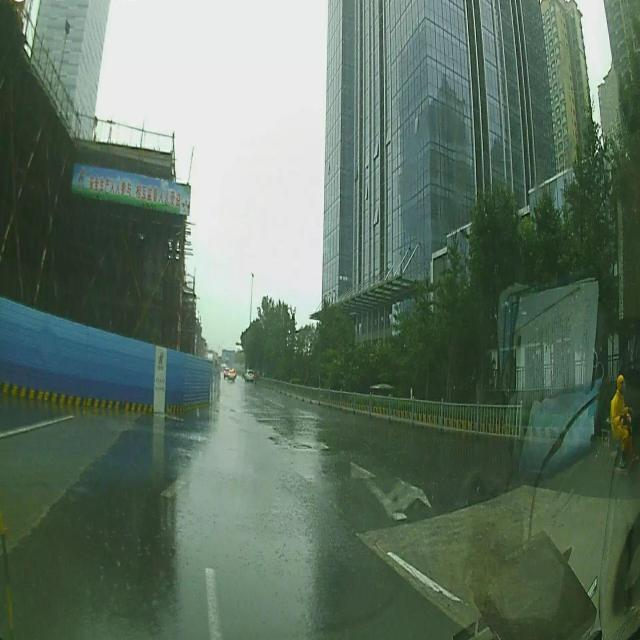car: (226, 363, 236, 381)
